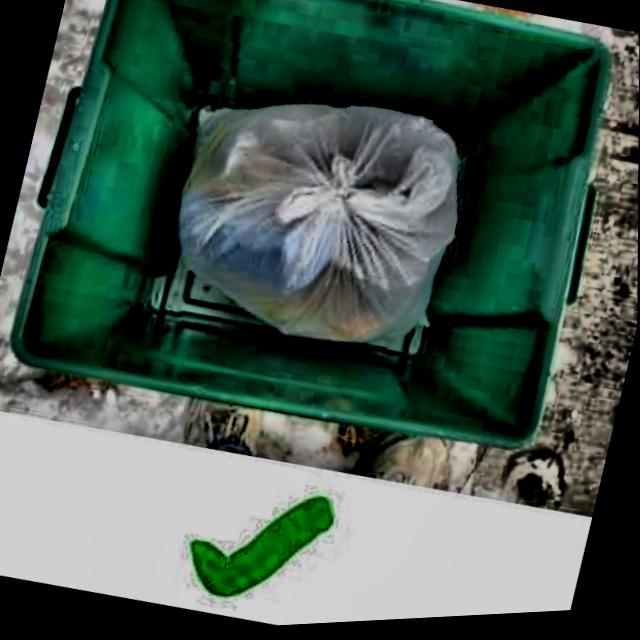Plastic: (134, 55, 495, 398)
